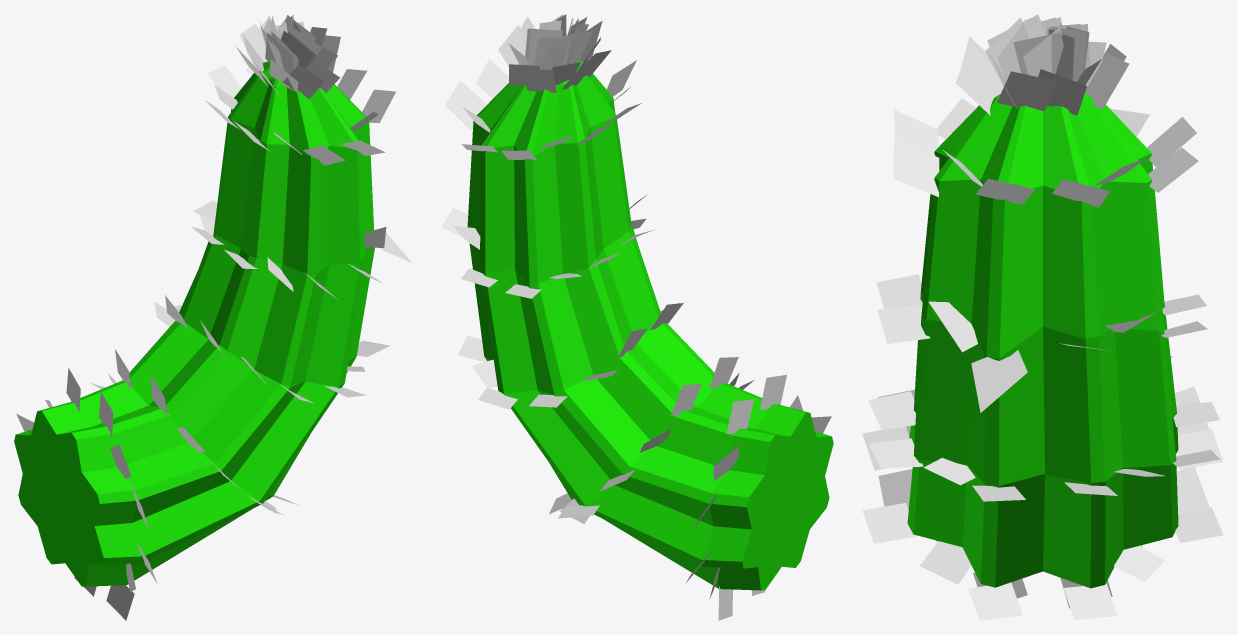
The model's file is Cactus_4.fbx.
3 renders of one model, left to right at view 1: azimuth 30°, elevation 25°; view 2: azimuth 150°, elevation 25°; view 3: azimuth 270°, elevation 25°, orthographic. The views are drawn at different scales.
Parts seen in each view (by area): view 1: Cactus_3.003; view 2: Cactus_3.003; view 3: Cactus_3.003.
Part boxes in pixels (box(x1,y1,x2,y2)): Cactus_3.003: box(14, 14, 411, 620); Cactus_3.003: box(441, 14, 833, 620); Cactus_3.003: box(862, 14, 1223, 620).
Bounding box in the file's own units: 39.3 × 60.83 × 28.34.
